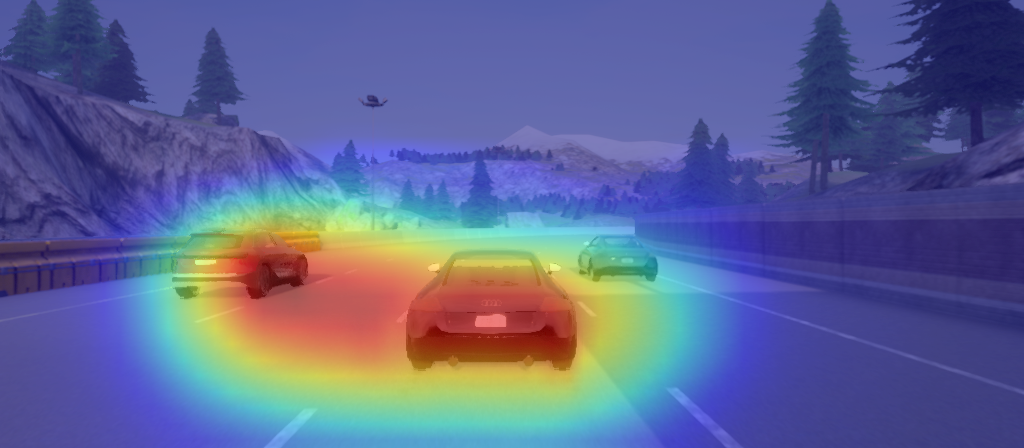Barrier: (661, 199, 1016, 278), (4, 244, 153, 281)
Car: (402, 247, 579, 376), (168, 224, 314, 306), (575, 232, 663, 287)
Lane Marker: (663, 380, 741, 448), (259, 403, 322, 448), (194, 303, 243, 333), (574, 292, 597, 319)
Light Pole: (356, 90, 391, 232)
